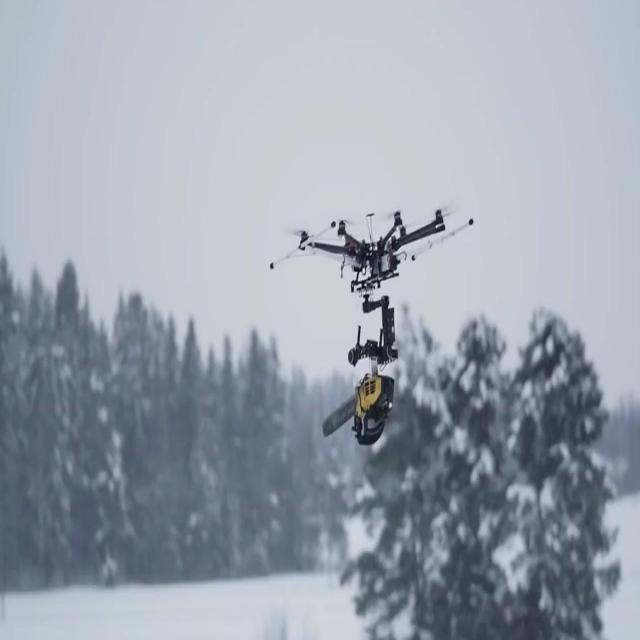drone: (267, 206, 475, 366)
